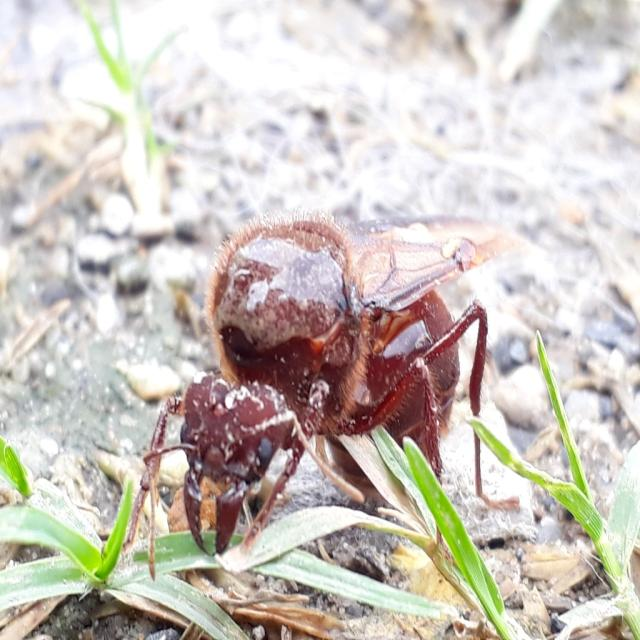Alive-Female-Alate: (118, 207, 520, 584)
